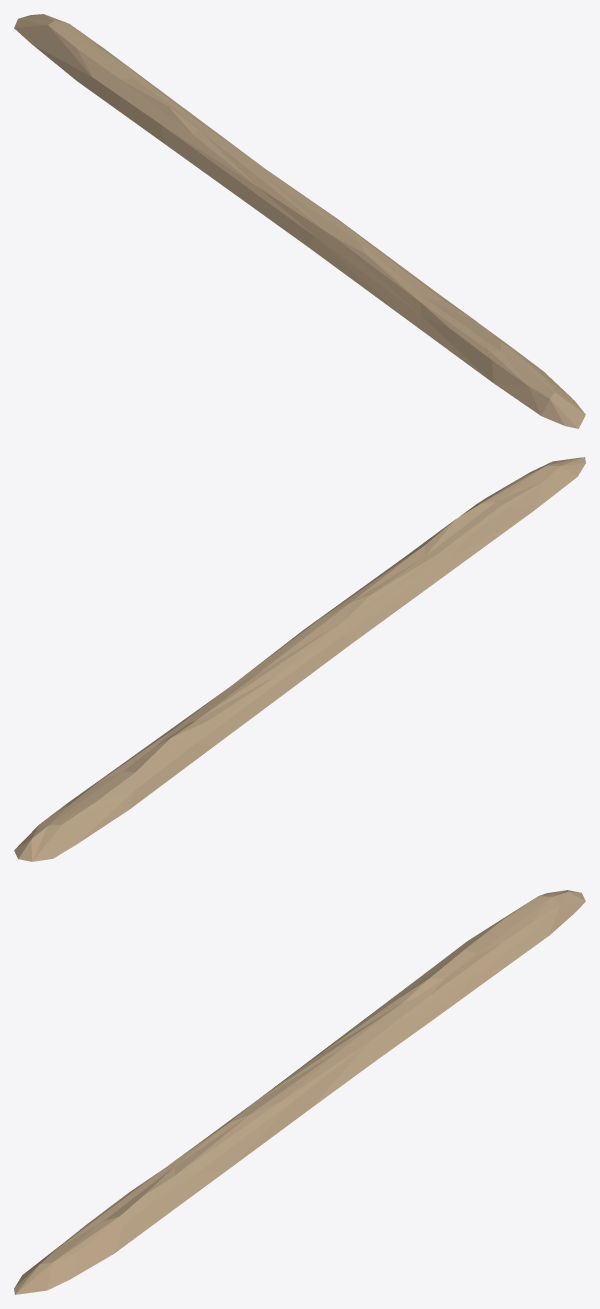
File: env_farm_row2.gltf
The picture shows the model from 3 angles, top to bottom: view 1: azimuth 30°, elevation 25°; view 2: azimuth 150°, elevation 25°; view 3: azimuth 330°, elevation 25°; orthographic projection.
Visible parts, largest first — view 1: env_farm_row2; view 2: env_farm_row2; view 3: env_farm_row2.
Part boxes in pixels (x1,y1,x2,y2): env_farm_row2: (14,14,585,428); env_farm_row2: (14,457,585,861); env_farm_row2: (14,890,585,1294).
Size of the model in its own units: 1.24 by 0.4262 by 22.76.
Materials: 1 (1 with a texture image).
